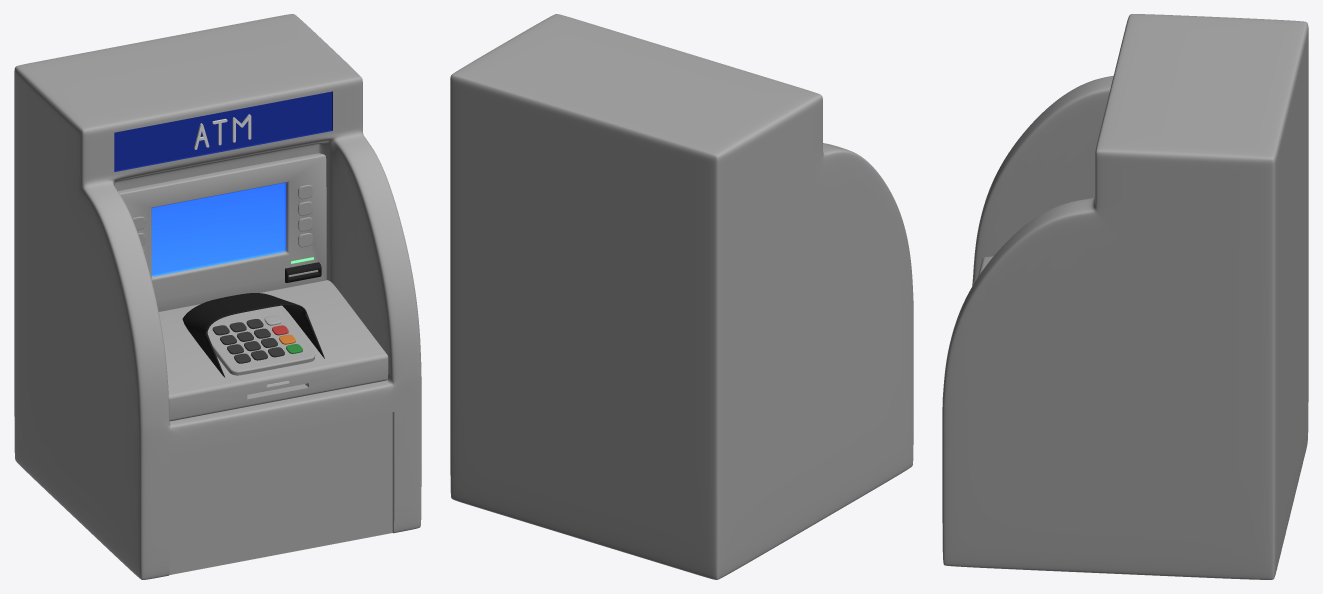
File: atm-3d-animated-icon-1356552847135.glb
The picture shows the model from 3 angles, left to right: view 1: azimuth 30°, elevation 25°; view 2: azimuth 150°, elevation 25°; view 3: azimuth 270°, elevation 25°; orthographic projection. The views are drawn at different scales.
Visible parts, largest first — view 1: Cube, Cube.003, Cube.001, Cube.002, Cube.004, Plane.001, Plane.024, Cube.009; view 2: Cube; view 3: Cube.
Part boxes in pixels (<box>): Cube: <box>14,14,421,579</box>; Cube.003: <box>118,153,326,311</box>; Cube.001: <box>159,280,388,421</box>; Cube.002: <box>207,306,315,375</box>; Cube.004: <box>182,293,324,377</box>; Plane.001: <box>212,319,284,363</box>; Plane.024: <box>132,184,312,255</box>; Cube.009: <box>285,262,321,282</box>; Cube: <box>450,14,913,579</box>; Cube: <box>942,14,1308,579</box>.
Bounding box in the file's own units: 1.75 × 2.27 × 1.77.
